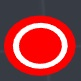Target: (3, 15, 77, 77)
